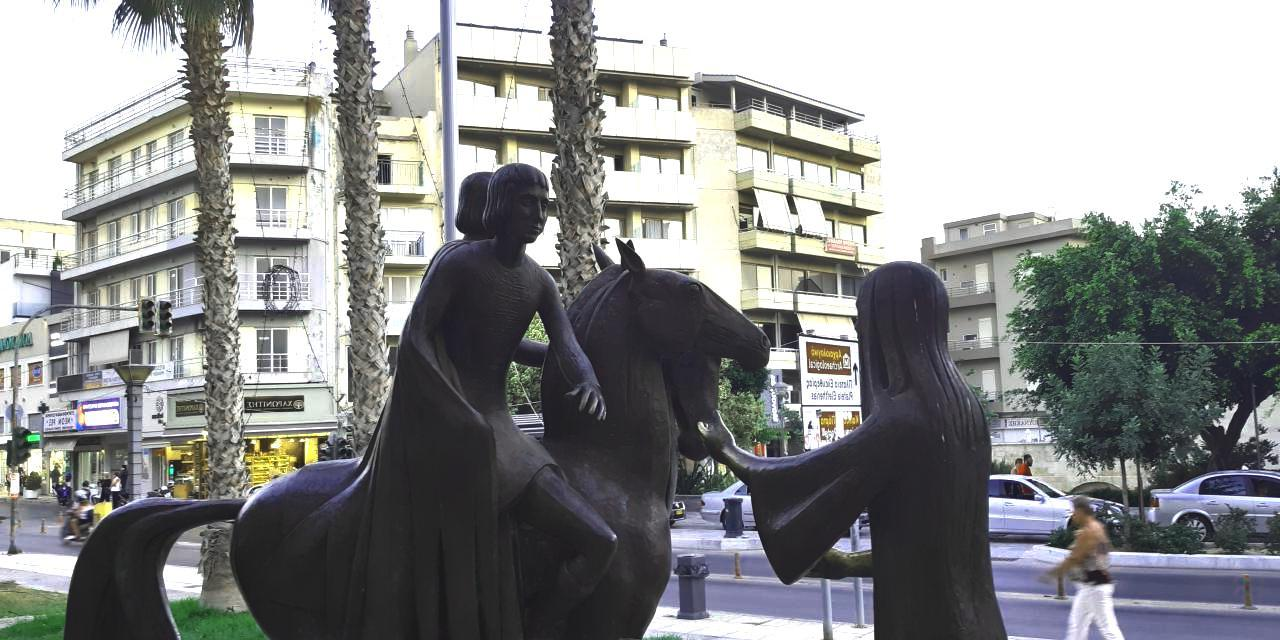Aretousa: (64, 165, 1007, 640)
